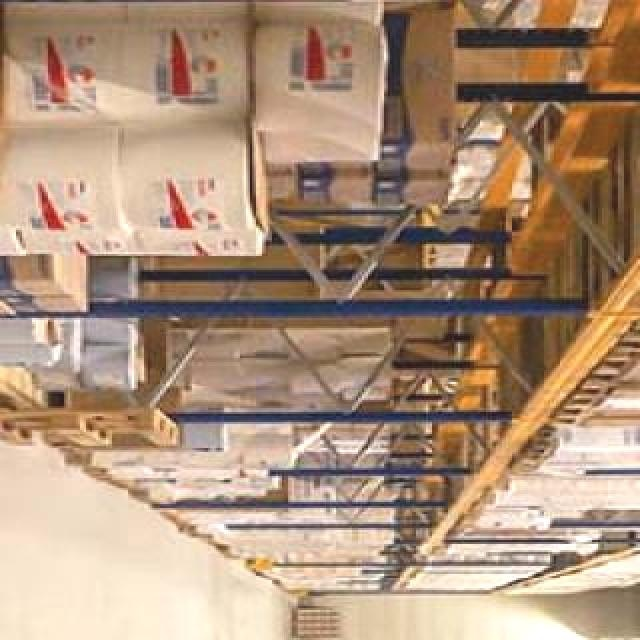fluorescent tube: (628, 634, 640, 640)
